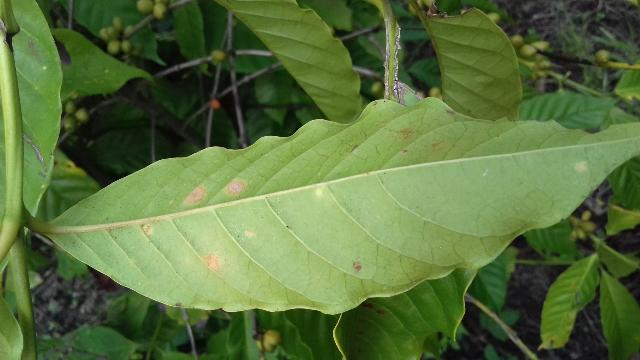rust_level_1: (48, 98, 639, 313)
